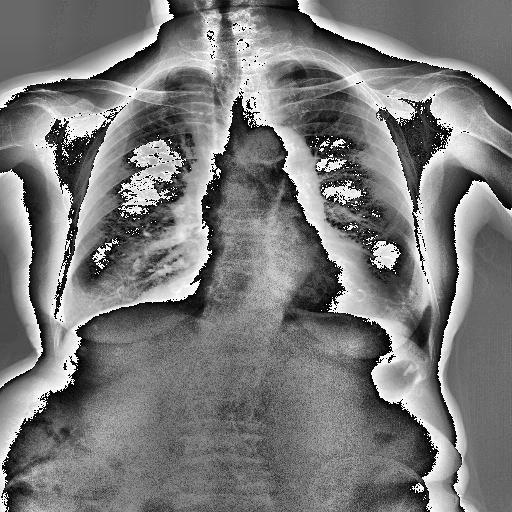0- Aortic enlargement: (244, 125, 324, 196), (240, 129, 322, 190), (240, 128, 315, 184)
2- Calcification: (170, 266, 206, 294)
3- Cardiomegaly: (192, 252, 378, 317)
